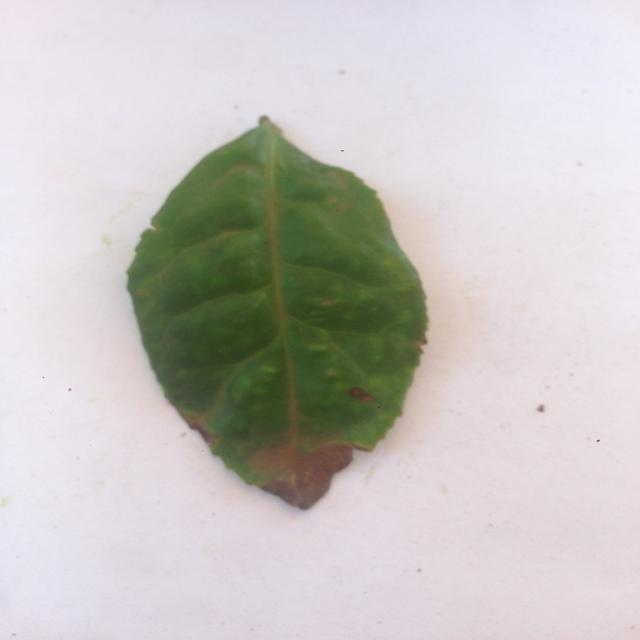Brown Blight: (132, 113, 446, 513)
